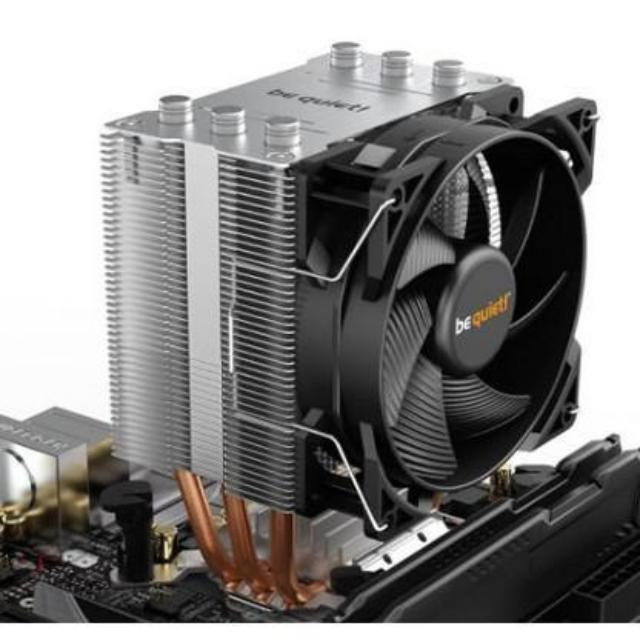CPU_Fan: (103, 25, 589, 620)
